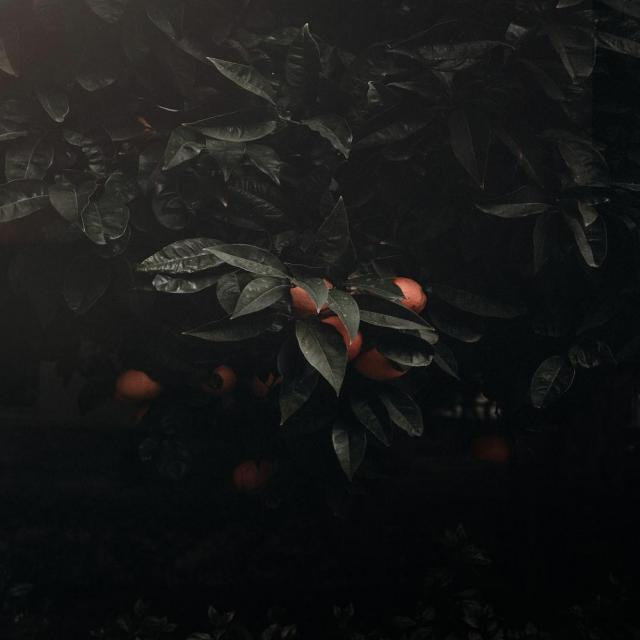Jeruk Sudah Matang: (288, 280, 332, 312), (327, 319, 360, 361), (390, 280, 430, 312), (362, 354, 406, 379), (236, 460, 272, 488), (121, 370, 157, 397), (252, 376, 280, 394), (213, 365, 233, 390)
